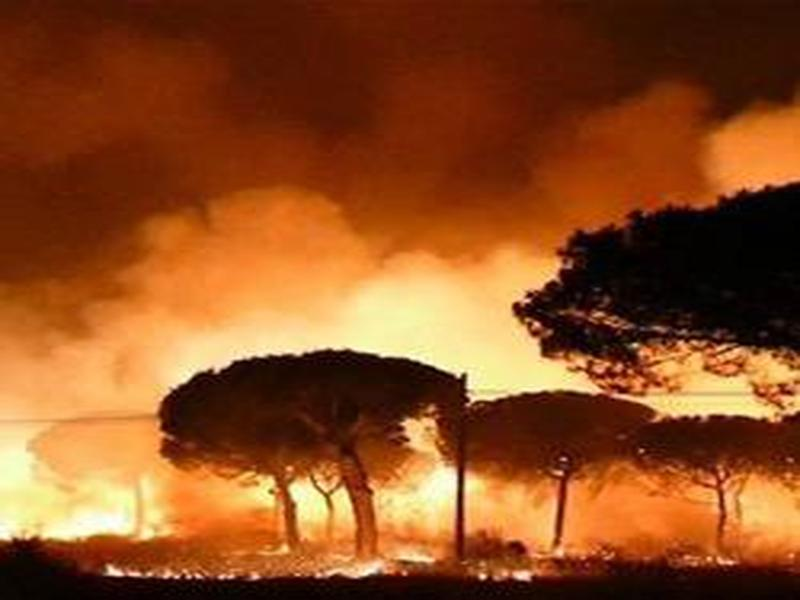FIRE: (8, 331, 785, 600)
